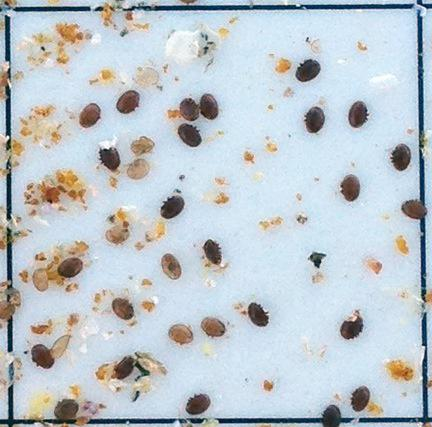Varroa: (195, 235, 230, 270), (101, 216, 136, 251), (91, 141, 126, 176), (174, 120, 209, 155), (172, 91, 207, 126), (109, 350, 144, 385), (157, 251, 183, 276), (388, 140, 413, 165), (116, 92, 140, 115), (33, 343, 55, 368), (341, 176, 363, 200), (200, 92, 221, 117), (350, 383, 372, 406), (296, 60, 318, 83), (56, 392, 78, 415), (110, 291, 132, 313), (342, 314, 363, 337), (247, 301, 267, 322), (76, 104, 97, 124), (162, 196, 182, 216), (402, 198, 421, 219), (348, 104, 367, 125), (189, 390, 207, 410), (205, 316, 223, 334), (304, 111, 322, 128), (171, 329, 186, 343), (63, 263, 74, 276)
